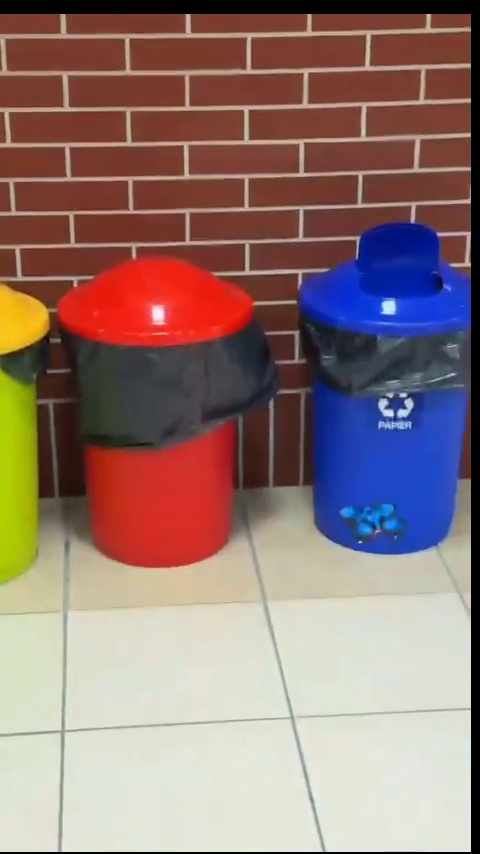drone: (341, 500, 405, 544)
